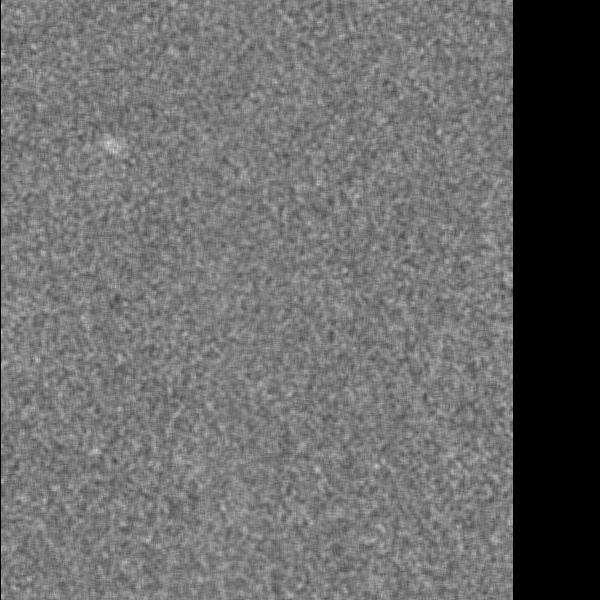spark: (94, 128, 127, 160)
